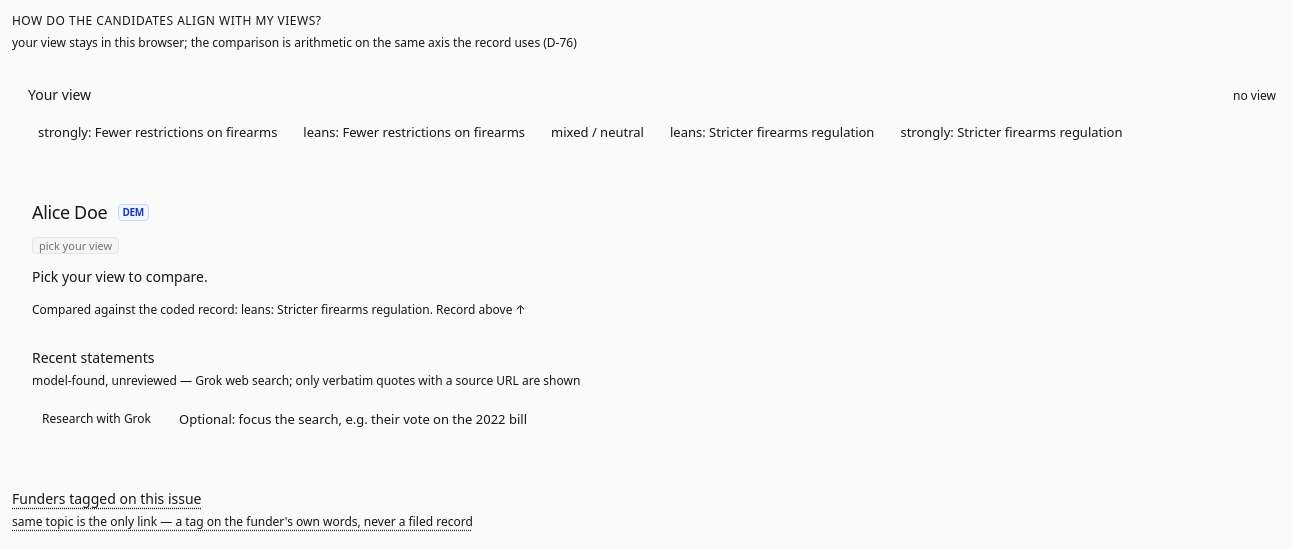
Test: AlignPanel › persists a view in the shared prefs key and re-renders the verdict
Click the radio button labelled "leans: Stricter firearms regulation" at (772, 132), box [660, 115, 884, 149]
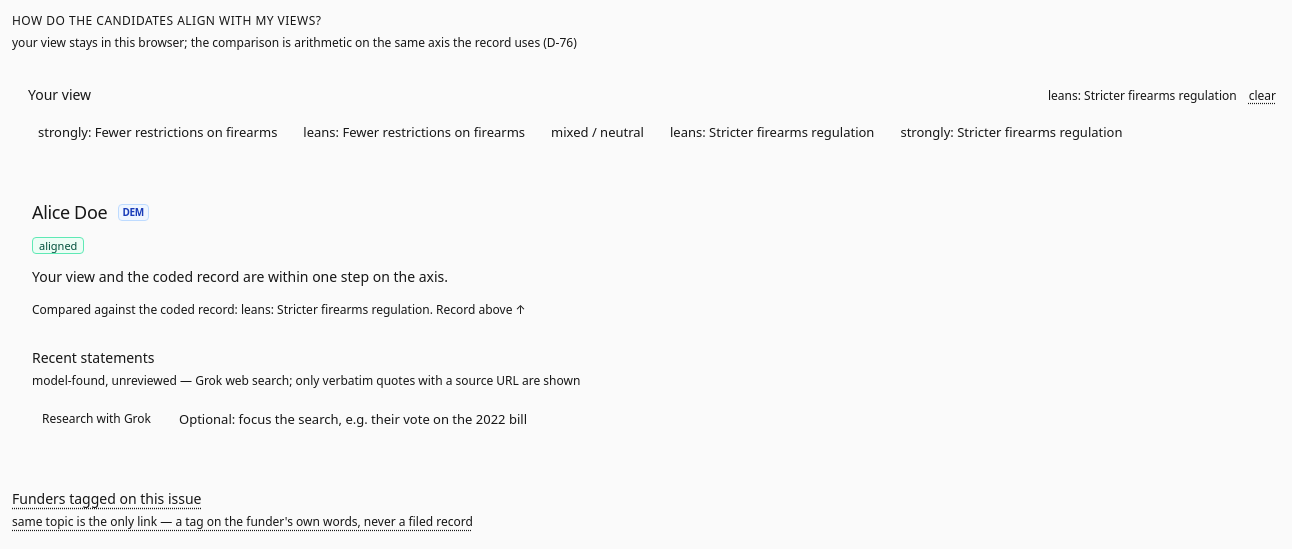
Expected: the text "aligned" is shown, [32, 237, 84, 254]
